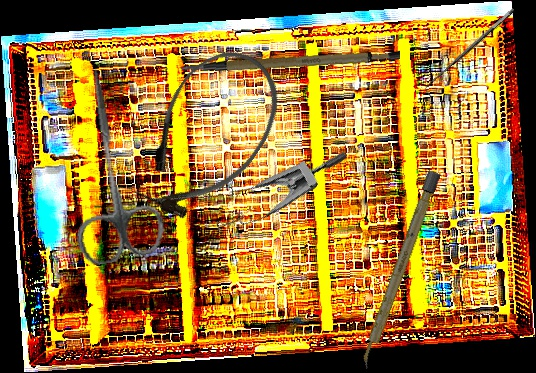Cannula: (115, 31, 301, 239)
Hook Surgical: (420, 6, 522, 98)
Iris Scissors: (48, 61, 170, 268)
Scalpel Handle: (357, 169, 442, 370), (180, 29, 401, 90)
Speculum: (192, 105, 350, 256)
